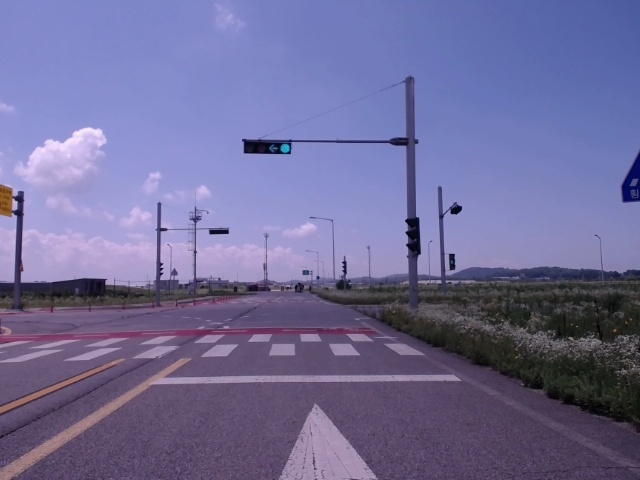all_green_4: (245, 140, 292, 156)
